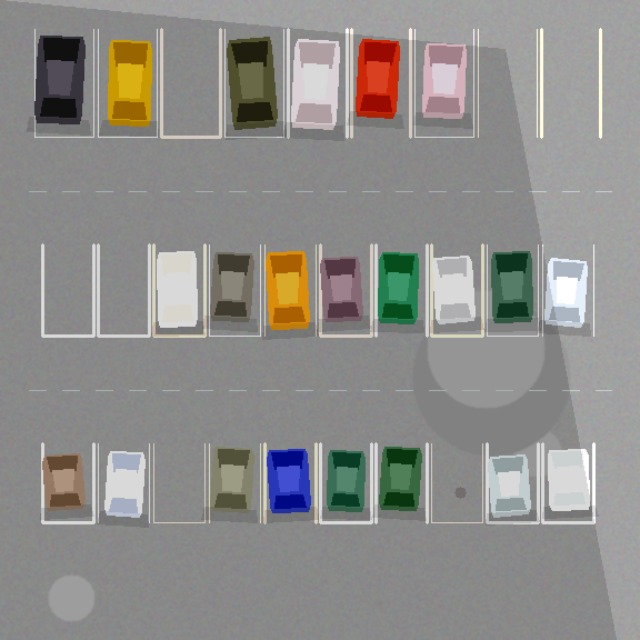space-empty: (161, 29, 220, 137), (478, 29, 537, 137), (541, 29, 600, 137), (42, 244, 93, 336), (98, 244, 149, 336), (153, 443, 204, 522), (431, 443, 482, 522)
space-occupied: (34, 29, 93, 137), (98, 29, 157, 137), (224, 29, 283, 137), (288, 29, 347, 137), (351, 29, 410, 137), (414, 29, 473, 137), (264, 244, 316, 336), (153, 244, 204, 336), (209, 244, 260, 336), (320, 244, 371, 336), (376, 244, 427, 336), (431, 244, 482, 336), (487, 244, 538, 336), (542, 244, 593, 336), (264, 443, 316, 522), (42, 443, 93, 522), (98, 443, 149, 522), (209, 443, 260, 522), (320, 443, 371, 522), (376, 443, 427, 522), (487, 443, 538, 522), (542, 443, 593, 522)
